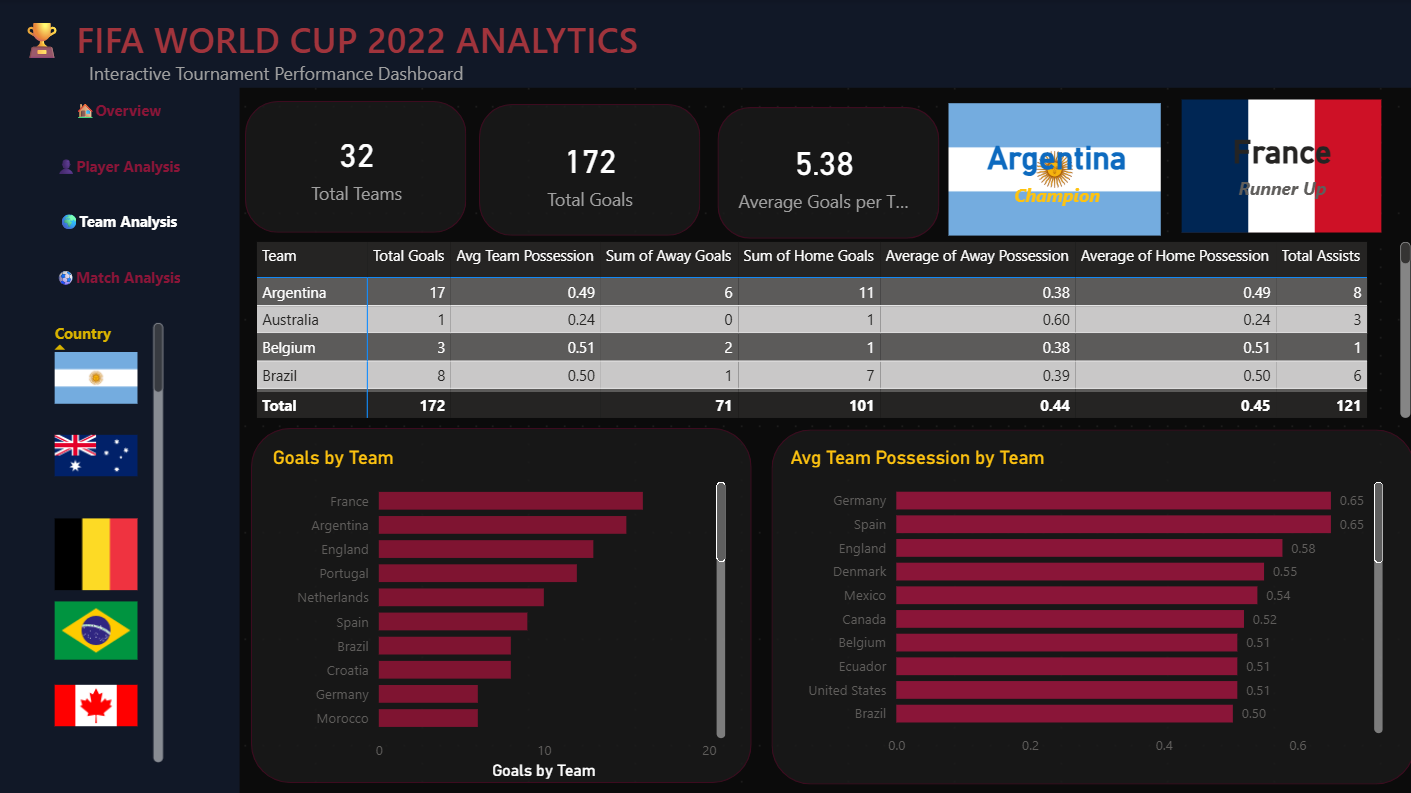

The dashboard page shown, as its layout file describes it:
{"tool":"powerbi","page":{"name":"🌍Team Analysis","canvas":[1280,720],"ordinal":2},"visuals":[{"type":"image","box":[858.8,90,191.2,126.2],"z":0},{"type":"shape","box":[230,386.2,451.2,320],"z":1000},{"type":"shape","box":[699.5,388.1,580,320],"z":2000},{"type":"shape","box":[0,0,219.4,819.8],"z":3000},{"type":"shape","box":[0,0,1600,80],"z":4000},{"type":"textbox","box":[0,10,1590,50],"z":5000},{"type":"textbox","box":[0,50,1380,40],"z":6000},{"type":"pageNavigator","box":[0,80,220,190],"z":7000},{"type":"tableEx","fields":{"Values":["Players.Country FLag"]},"box":[41.5,286.2,113.8,406.2],"z":8000},{"type":"clusteredBarChart","fields":{"Category":["Teams.Team"],"Y":["Matches.Avg Team Possession"]},"box":[710.8,403.1,543.8,287.5],"z":10000},{"type":"clusteredBarChart","title":"Goals by Team ","fields":{"Category":["Teams.Team"],"Y":["Matches.Goals by Team"]},"box":[245,402.5,417.5,305],"z":11000},{"type":"shape","box":[224.6,91.8,199.6,118.9],"z":12000},{"type":"card","fields":{"Values":["Matches.Total Teams"]},"box":[244.4,97.9,160,105.1],"z":13000},{"type":"shape","box":[435.8,95,199.6,118.9],"z":14000},{"type":"card","fields":{"Values":["Matches.Total Goals"]},"box":[460.1,104.2,150.9,102.1],"z":15000},{"type":"shape","box":[650,97.5,200,118.8],"z":16000},{"type":"card","fields":{"Values":["Matches.Average Goals per Team"]},"box":[662.5,103.8,166.2,106.2],"z":17000},{"type":"card","fields":{"Values":["Matches.Champion"]},"box":[882.5,103.8,146.2,95],"z":18000},{"type":"image","box":[1062.5,90,192.5,120],"z":19000},{"type":"card","fields":{"Values":["Matches.Runner Up"]},"box":[1081.2,103.8,155,83.8],"z":20000},{"type":"pivotTable","fields":{"Rows":["Teams.Team"],"Values":["Matches.Total Goals","Matches.Avg Team Possession","Sum(Matches.Away Goals)","Sum(Matches.Home Goals)","Avg(Matches.Away Possession)","Avg(Matches.Home Possession)","Matches.Total Assists"]},"box":[230,213.8,1050,168.8],"z":21000}]}

Visuals, with their boxes in screenshot pixels (x1, y1, x2, y2), scaled from the page's 1280x720 canvas onto the 1411x793 screenshot:
image: x1=947, y1=99, x2=1157, y2=238
shape: x1=254, y1=425, x2=751, y2=778
shape: x1=771, y1=427, x2=1410, y2=780
shape: x1=0, y1=0, x2=242, y2=792
shape: x1=0, y1=0, x2=1410, y2=88
textbox: x1=0, y1=11, x2=1410, y2=66
textbox: x1=0, y1=55, x2=1410, y2=99
pageNavigator: x1=0, y1=88, x2=243, y2=297
tableEx - Players.Country FLag: x1=46, y1=315, x2=171, y2=763
clusteredBarChart - Teams.Team x Matches.Avg Team Possession: x1=784, y1=444, x2=1383, y2=761
"Goals by Team " clusteredBarChart: x1=270, y1=443, x2=730, y2=779
shape: x1=248, y1=101, x2=468, y2=232
card - Matches.Total Teams: x1=269, y1=108, x2=446, y2=224
shape: x1=480, y1=105, x2=700, y2=236
card - Matches.Total Goals: x1=507, y1=115, x2=674, y2=227
shape: x1=717, y1=107, x2=937, y2=238
card - Matches.Average Goals per Team: x1=730, y1=114, x2=914, y2=231
card - Matches.Champion: x1=973, y1=114, x2=1134, y2=219
image: x1=1171, y1=99, x2=1383, y2=231
card - Matches.Runner Up: x1=1192, y1=114, x2=1363, y2=207
pivotTable - Teams.Team x Matches.Total Goals: x1=254, y1=235, x2=1410, y2=421
